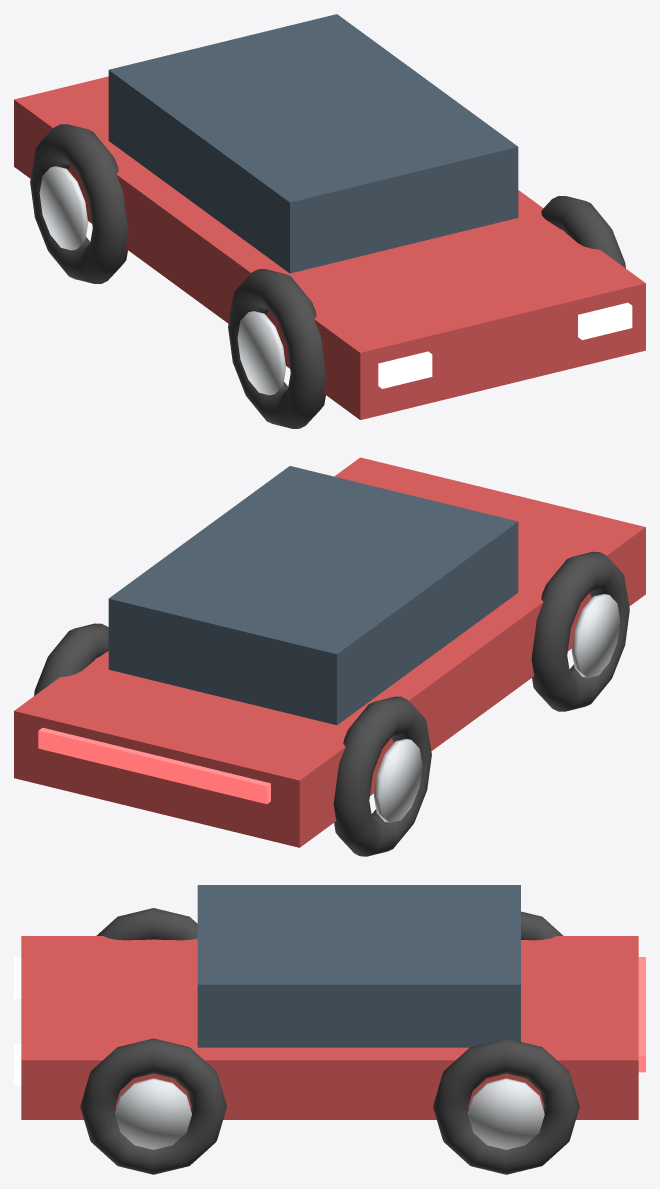
The model's file is ba15c676-dbe6-4600-9bc1-a0a8b29e2c3f.glb.
3 views of the same model, one above another, from view 1: azimuth 30°, elevation 25°; view 2: azimuth 150°, elevation 25°; view 3: azimuth 270°, elevation 25° (orthographic). The views are drawn at different scales.
Visible parts, largest first — view 1: Generated3DMesh; view 2: Generated3DMesh; view 3: Generated3DMesh.
Boxes of the visible parts, x1=… form: Generated3DMesh: x1=14, y1=14, x2=645, y2=428; Generated3DMesh: x1=14, y1=457, x2=645, y2=856; Generated3DMesh: x1=14, y1=885, x2=645, y2=1174.
Size of the model in its own units: 2.38 by 1.3 by 4.3.
